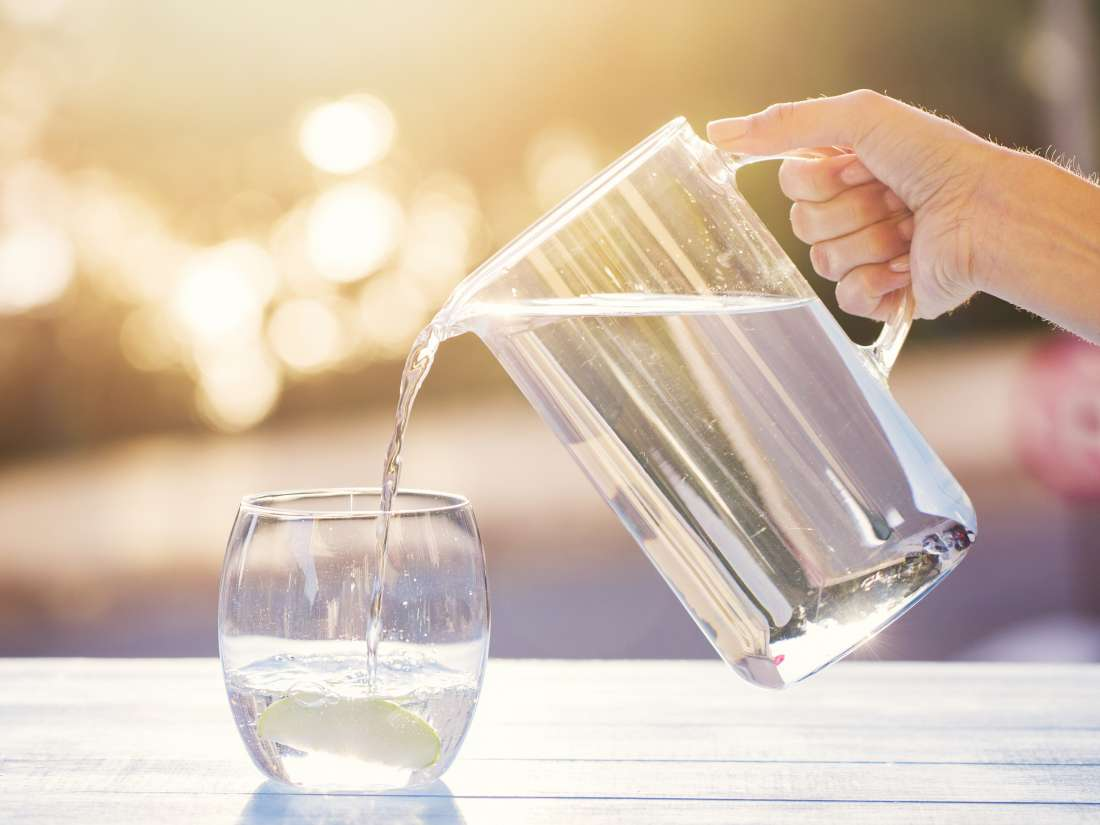glass of water: (172, 459, 519, 804)
